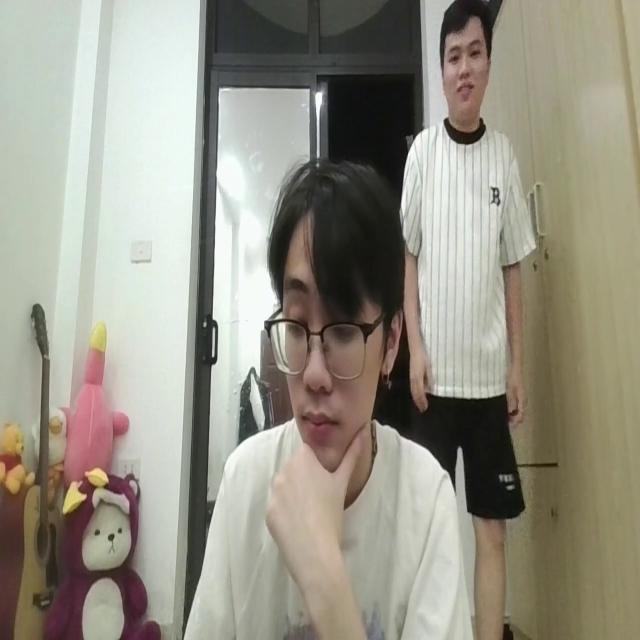extra_person: (392, 0, 539, 501)
student: (171, 153, 467, 640)
